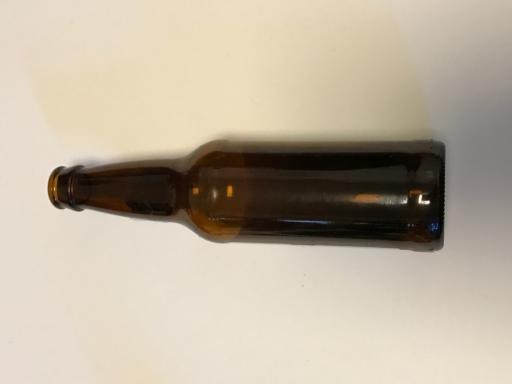botolkaca: (48, 139, 445, 252)
